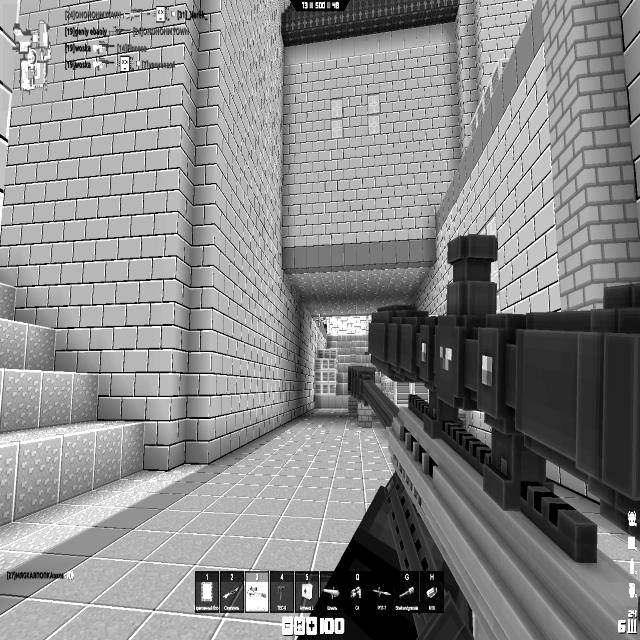Head: (323, 318, 326, 323)
Player: (322, 317, 328, 334)
